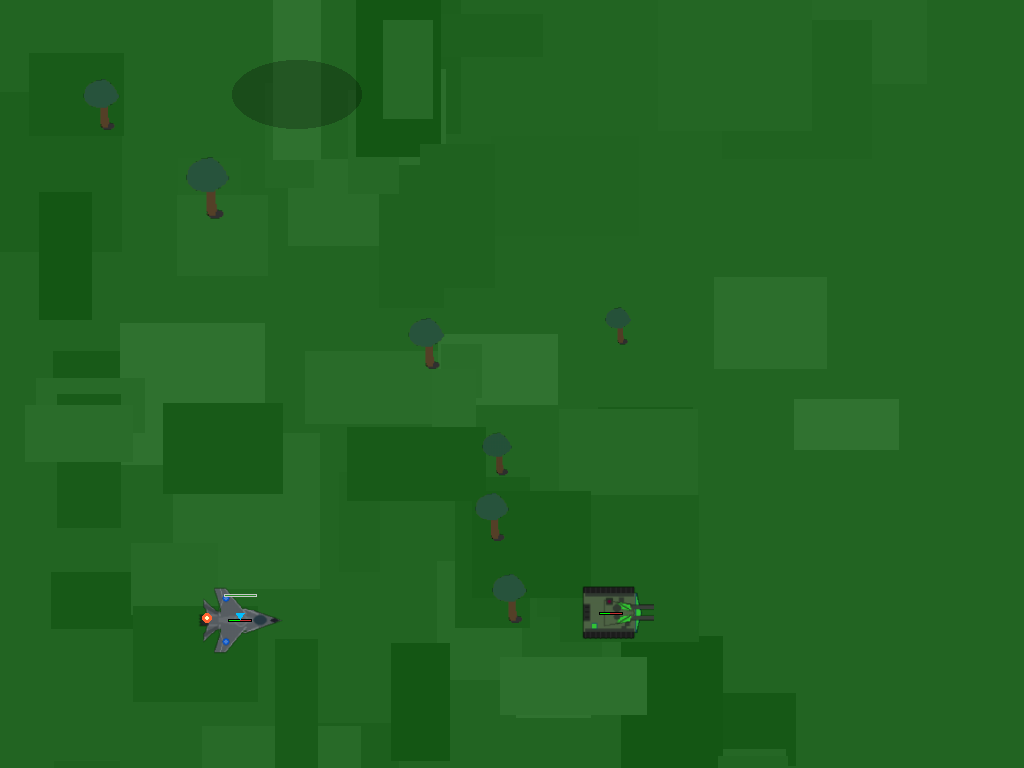FighterJet_rus: (175, 0, 319, 144)
HIMARS: (217, 596, 262, 641)
MiningRig: (582, 582, 640, 640)
